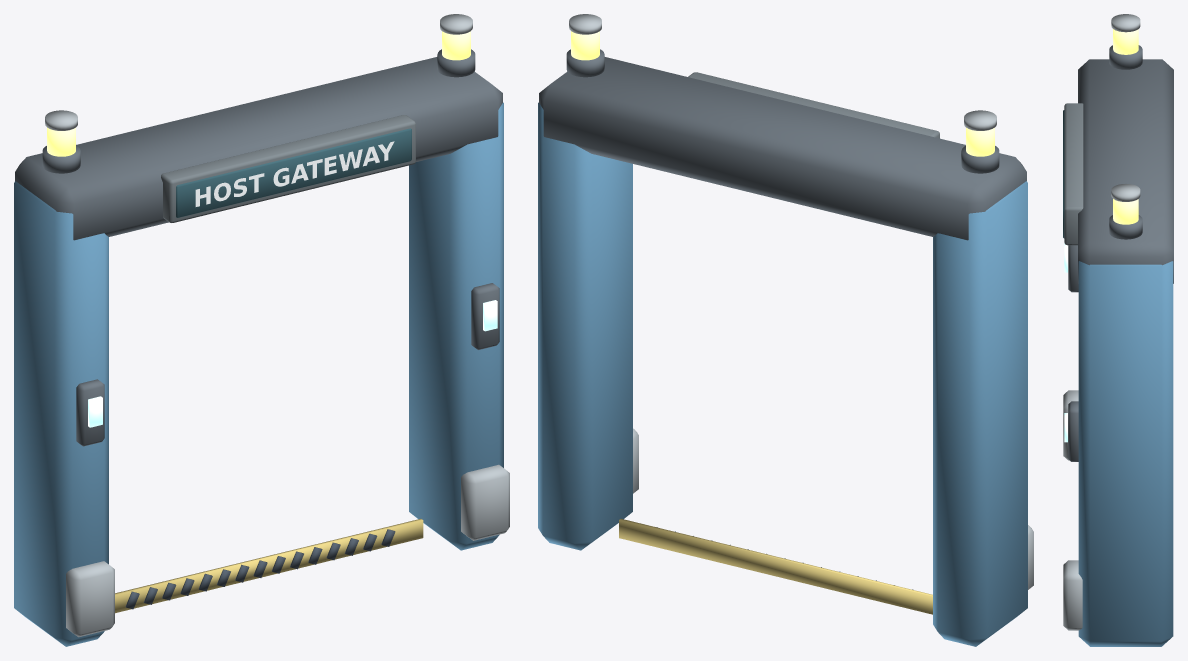
File: host_gateway_enhanced.glb
The picture shows the model from 3 angles, left to right: view 1: azimuth 30°, elevation 25°; view 2: azimuth 150°, elevation 25°; view 3: azimuth 270°, elevation 25°; orthographic projection. The views are drawn at different scales.
Visible parts, largest first — view 1: Pillar_blue_legacy_0, Header_dark_legacy_4, Footing_steel_legacy_11, SignPlate_glass, ScreenMount_frame, Detail_yellow_legacy_9, AccessPanel_dark_legacy_12, Detail_black_legacy_10, TypeLabel_white, StatusLight_warn_legacy_2, Beacon_dark_legacy_1, Beacon_steel_legacy_3 (+1 smaller); view 2: Pillar_blue_legacy_0, Header_dark_legacy_4, Detail_yellow_legacy_9, ScreenMount_frame, StatusLight_warn_legacy_2, Beacon_dark_legacy_1, Beacon_steel_legacy_3, Footing_steel_legacy_11; view 3: Pillar_blue_legacy_0, Header_dark_legacy_4, ScreenMount_frame, Footing_steel_legacy_11, StatusLight_warn_legacy_2, Beacon_dark_legacy_1, AccessPanel_dark_legacy_12, Beacon_steel_legacy_3, SignPlate_glass, StatusLight_glow_legacy_13.
Boxes of the visible parts, x1=… form: Pillar_blue_legacy_0: x1=14, y1=102, x2=503, y2=646; Header_dark_legacy_4: x1=15, y1=57, x2=502, y2=240; Footing_steel_legacy_11: x1=66, y1=464, x2=509, y2=637; SignPlate_glass: x1=176, y1=128, x2=411, y2=217; ScreenMount_frame: x1=161, y1=115, x2=415, y2=222; Detail_yellow_legacy_9: x1=115, y1=518, x2=423, y2=613; AccessPanel_dark_legacy_12: x1=76, y1=283, x2=499, y2=446; Detail_black_legacy_10: x1=125, y1=529, x2=395, y2=609; TypeLabel_white: x1=195, y1=141, x2=394, y2=206; StatusLight_warn_legacy_2: x1=47, y1=31, x2=470, y2=156; Beacon_dark_legacy_1: x1=42, y1=49, x2=475, y2=173; Beacon_steel_legacy_3: x1=45, y1=14, x2=472, y2=130; Pillar_blue_legacy_0: x1=538, y1=102, x2=1027, y2=646; Header_dark_legacy_4: x1=539, y1=57, x2=1026, y2=240; Detail_yellow_legacy_9: x1=619, y1=518, x2=932, y2=614; ScreenMount_frame: x1=688, y1=72, x2=939, y2=138; StatusLight_warn_legacy_2: x1=571, y1=31, x2=994, y2=156; Beacon_dark_legacy_1: x1=566, y1=49, x2=999, y2=173; Beacon_steel_legacy_3: x1=569, y1=14, x2=996, y2=130; Footing_steel_legacy_11: x1=633, y1=428, x2=1033, y2=589; Pillar_blue_legacy_0: x1=1078, y1=261, x2=1173, y2=646; Header_dark_legacy_4: x1=1078, y1=59, x2=1173, y2=283; ScreenMount_frame: x1=1064, y1=103, x2=1083, y2=245; Footing_steel_legacy_11: x1=1063, y1=390, x2=1082, y2=630; StatusLight_warn_legacy_2: x1=1113, y1=29, x2=1138, y2=224; Beacon_dark_legacy_1: x1=1109, y1=45, x2=1142, y2=239; AccessPanel_dark_legacy_12: x1=1068, y1=245, x2=1078, y2=461; Beacon_steel_legacy_3: x1=1111, y1=14, x2=1140, y2=201; SignPlate_glass: x1=1063, y1=110, x2=1064, y2=238; StatusLight_glow_legacy_13: x1=1064, y1=243, x2=1067, y2=442.
Bounding box in the file's own units: 3.14 × 3.41 × 0.769.
